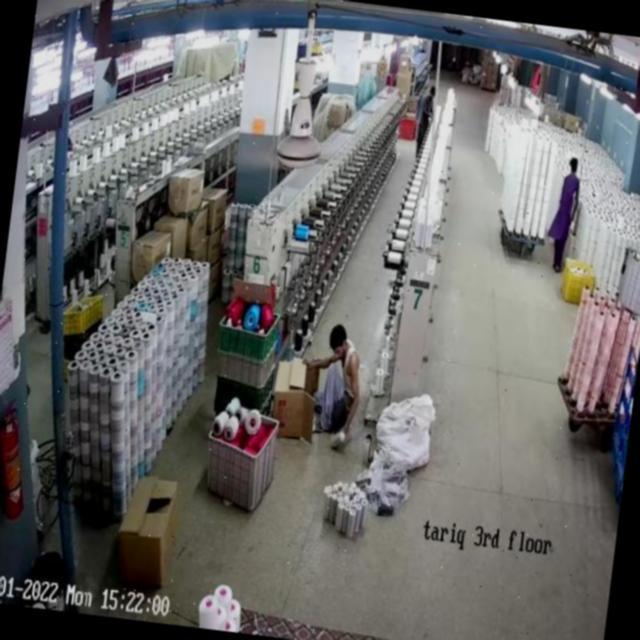person: (309, 313, 372, 448), (548, 153, 584, 274), (415, 83, 439, 149)
